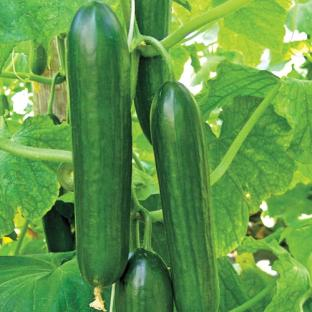Cucumber: (68, 2, 131, 287), (151, 82, 219, 311), (115, 249, 173, 311), (135, 56, 167, 142), (43, 206, 74, 252), (29, 40, 47, 75), (0, 95, 9, 115)
